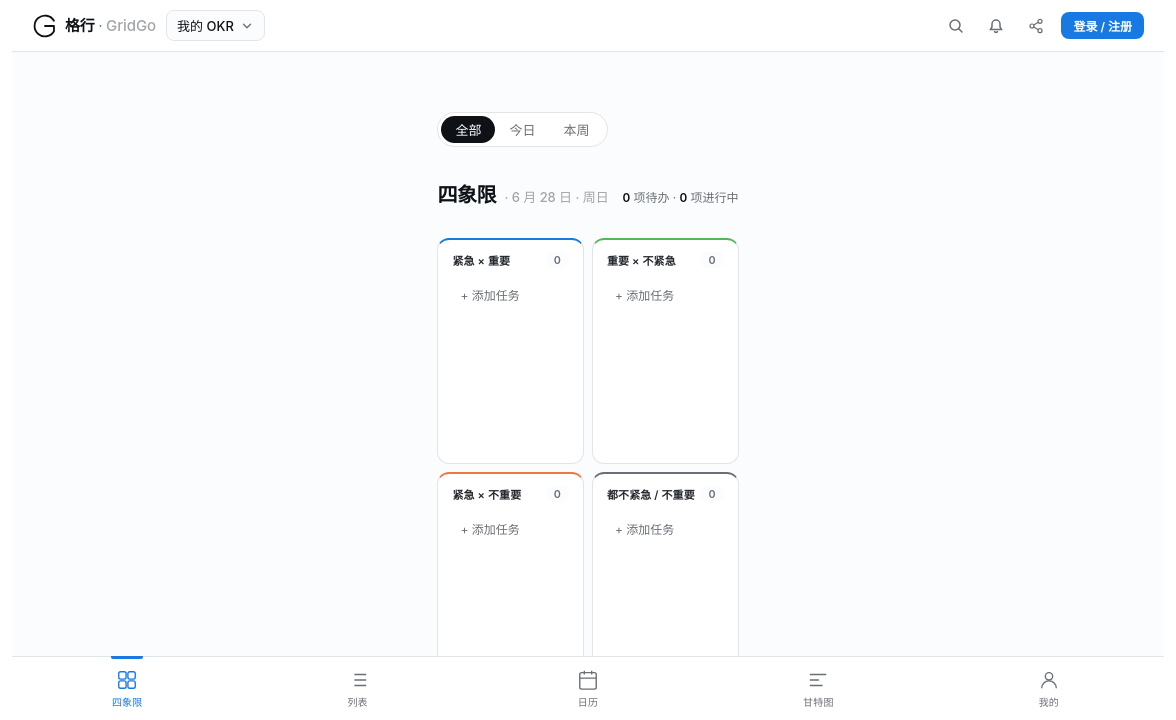
Test: 日常操作 7 步流程 › 3. 切到 List Tab，能看到 OKR 树
This screenshot has width=1176, height=720.
Click the tab "列表".
click(358, 688)  # box [242,657,473,719]
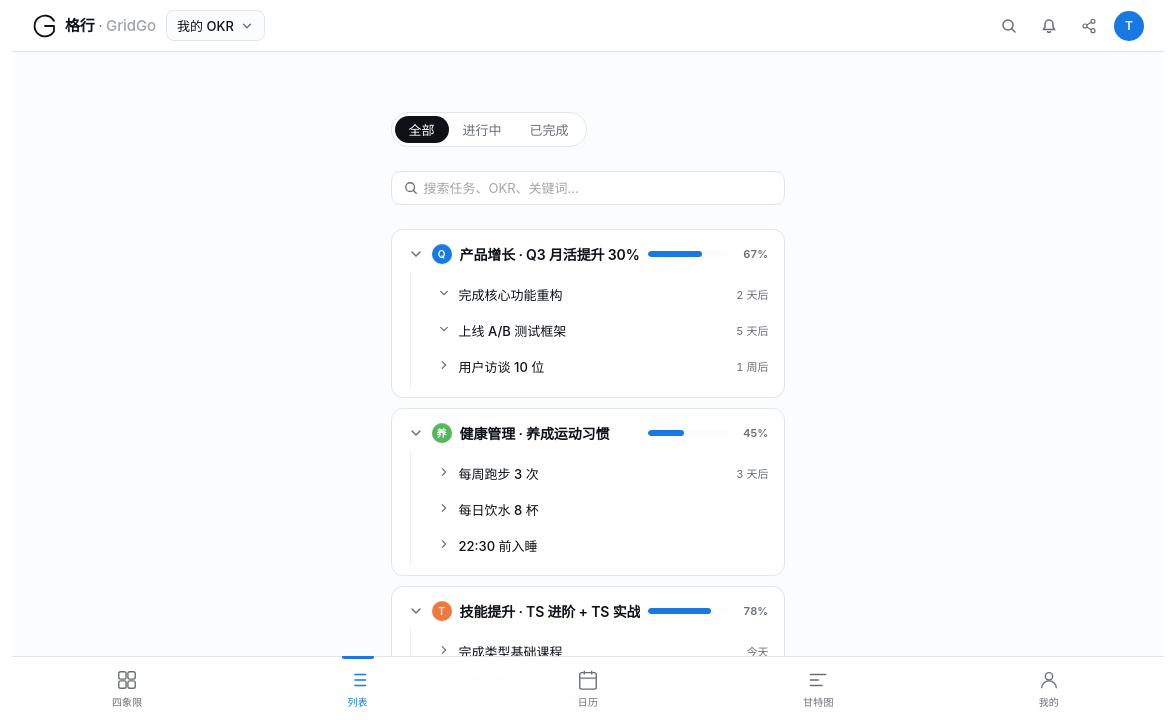
Check: the text "产品增长 · Q3 月活提升 30%" is shown, box [460,244,640,264]
Check: the text "健康管理 · 养成运动习惯" is shown, box [460,425,609,442]
